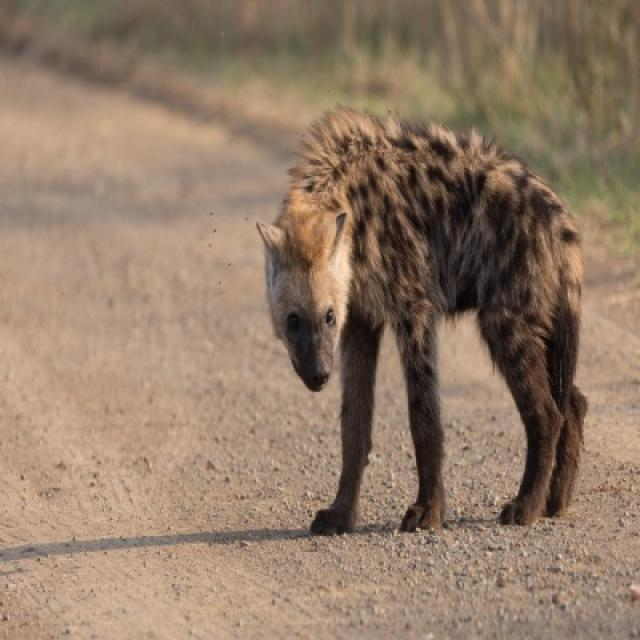hyena: (256, 109, 590, 538)
